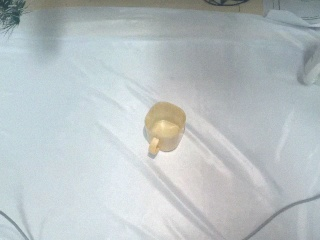cup: (144, 101, 187, 156)
